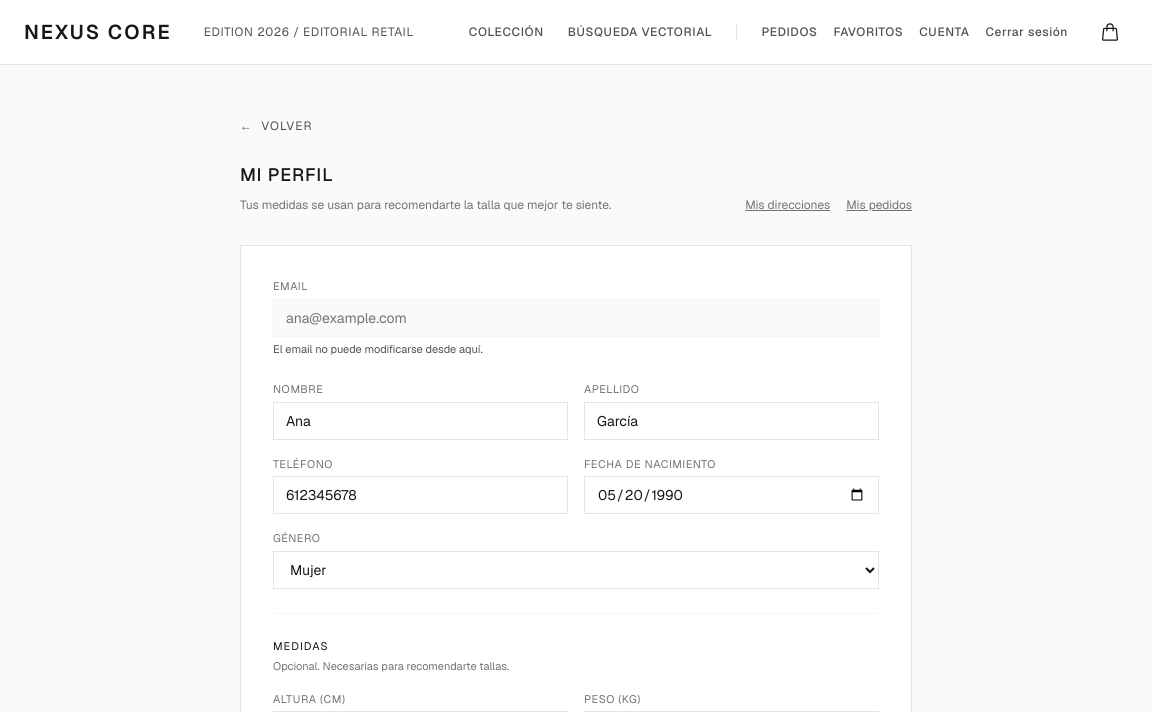
Test: ProfilePage › debe guardar los cambios y mostrar confirmación
Replace the text in the field labelled "Nombre" with "Ana María". click: [420, 420]
box: [273,402,568,440]
(page scrolled)
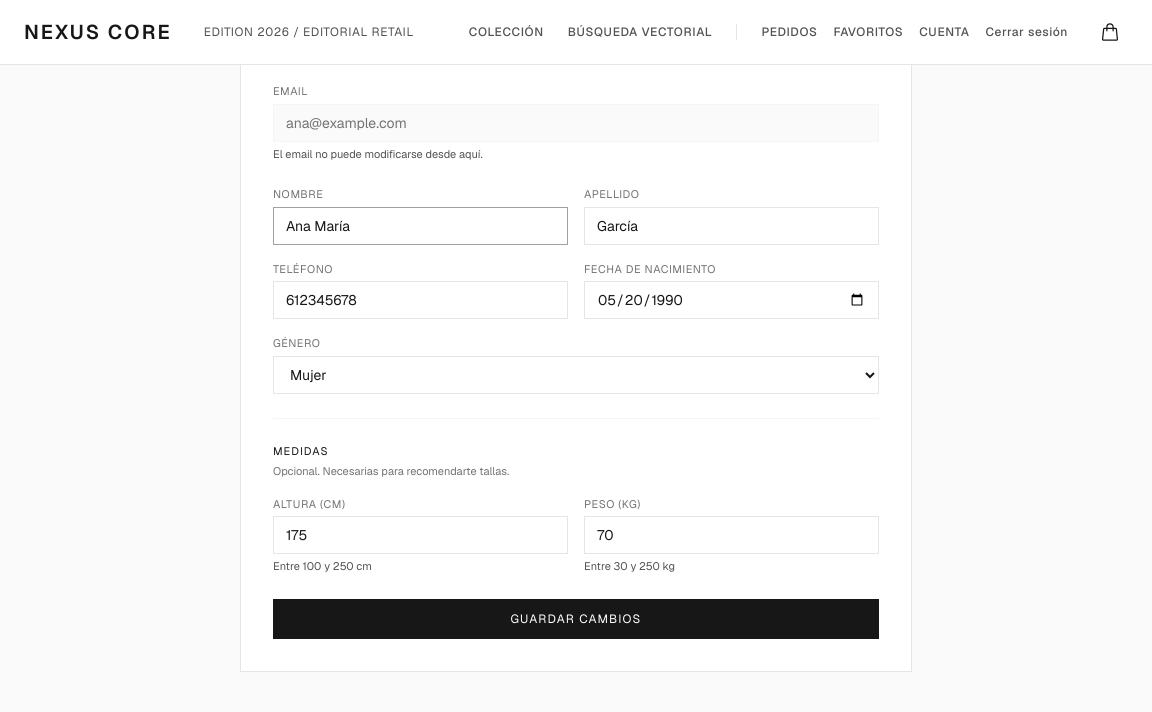
Click the button "Guardar cambios". click: [576, 618]
box: [273,598,879,638]
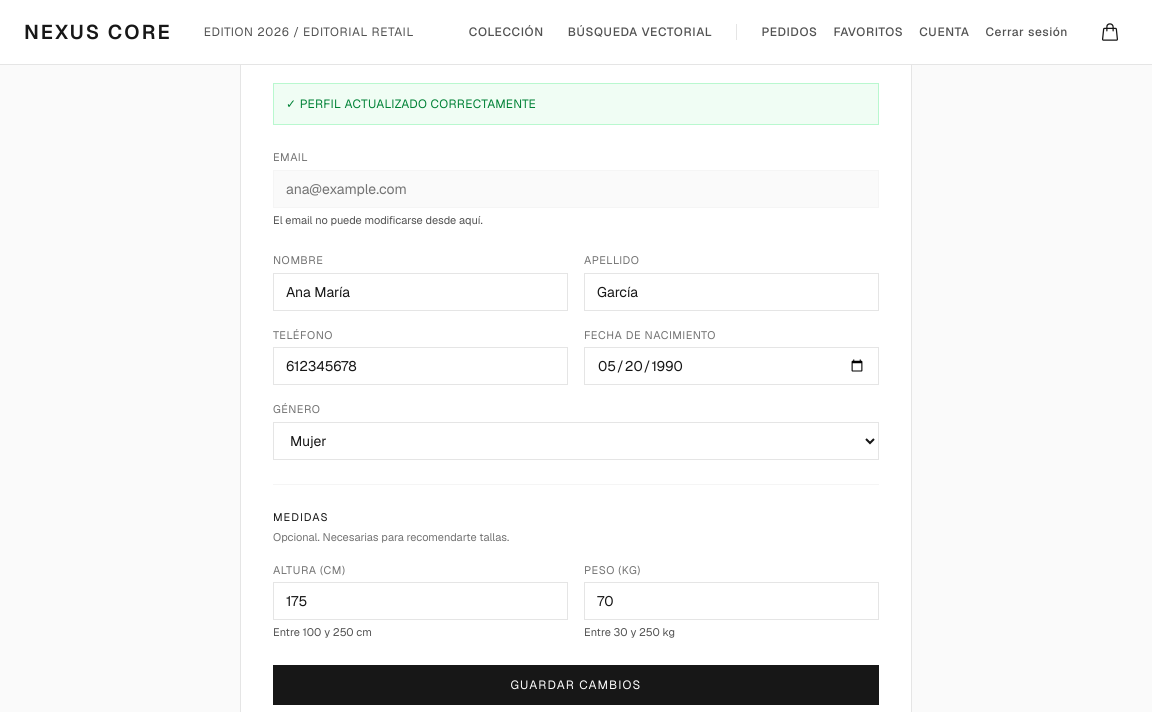
expect the message shows "Perfil actualizado correctamente": met, box [286,96,536,112]
